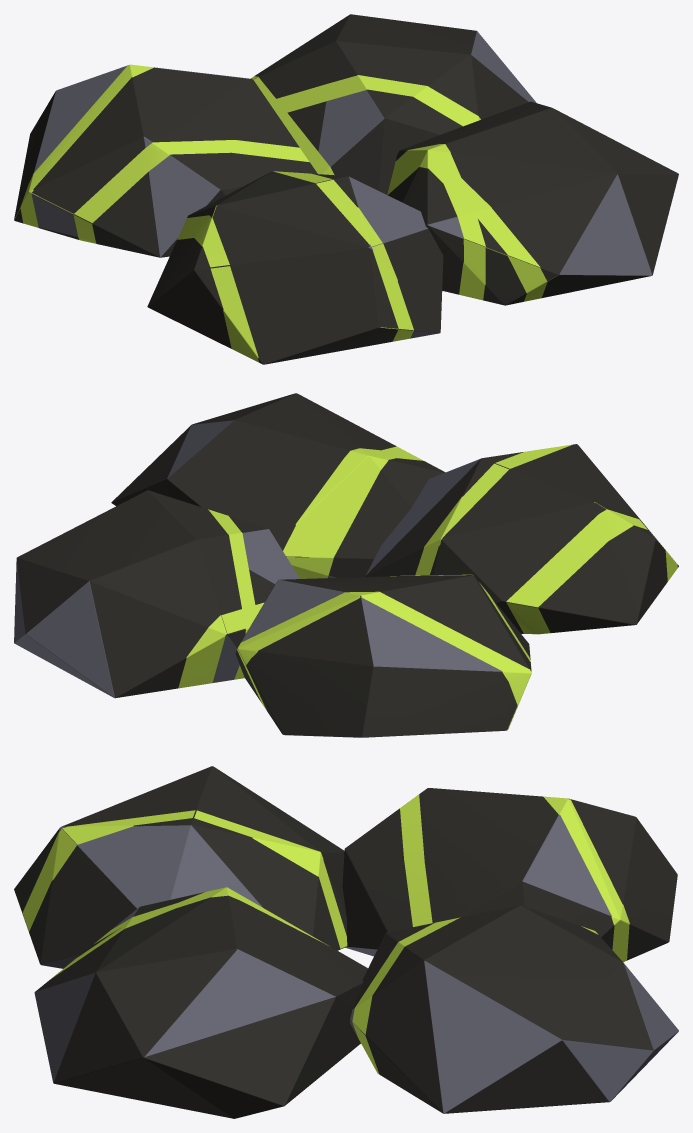
File: minerai_uraninite_1.glb
The picture shows the model from 3 angles, top to bottom: view 1: azimuth 30°, elevation 25°; view 2: azimuth 150°, elevation 25°; view 3: azimuth 270°, elevation 25°; orthographic projection. The views are drawn at different scales.
Parts seen in each view (by area): view 1: minerai_pechblende.004, minerai_autunite.004, minerai_charbon_brillant.008; view 2: minerai_pechblende.004, minerai_autunite.004, minerai_charbon_brillant.008; view 3: minerai_pechblende.004, minerai_charbon_brillant.008, minerai_autunite.004.
Boxes of the visible parts, box(x1,y1,x2,y2) form: minerai_pechblende.004: box(14, 14, 678, 364); minerai_autunite.004: box(14, 64, 558, 362); minerai_charbon_brillant.008: box(31, 31, 652, 338); minerai_pechblende.004: box(16, 393, 678, 737); minerai_autunite.004: box(178, 444, 677, 729); minerai_charbon_brillant.008: box(14, 420, 577, 737); minerai_pechblende.004: box(14, 766, 677, 1118); minerai_charbon_brillant.008: box(34, 788, 678, 1113); minerai_autunite.004: box(14, 766, 629, 1073).
Size of the model in its own units: 0.5461 by 0.1163 by 0.5523.
